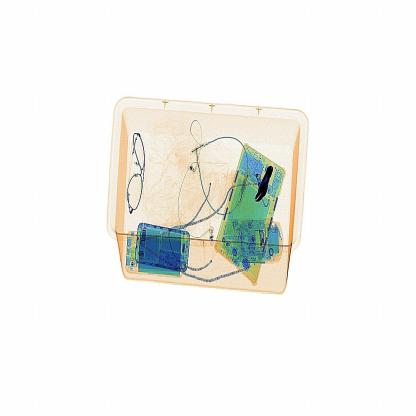knife: (249, 163, 282, 201)
